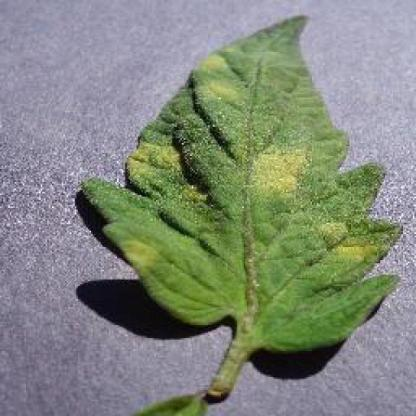Tomato_Leaf_Mold: (87, 13, 398, 325)
